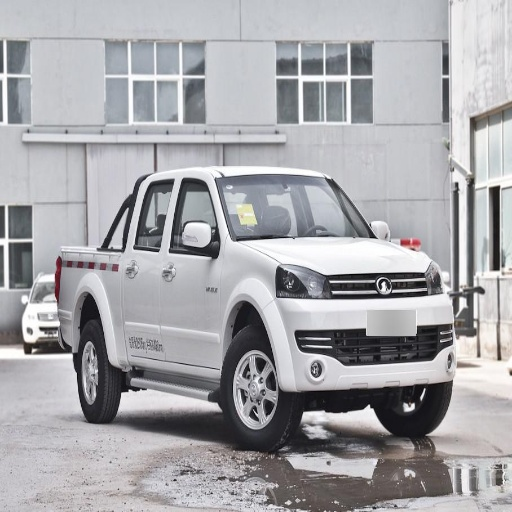front_bumper: (270, 263, 460, 386)
front_right_door: (160, 176, 222, 367)
front_right_light: (277, 268, 330, 298)
hood: (246, 240, 431, 274)
trunk: (36, 252, 115, 353)
